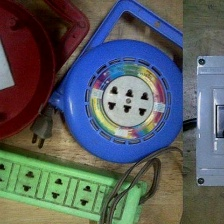three_eye_plug: (43, 17, 192, 170), (0, 0, 95, 147), (0, 135, 149, 224)
